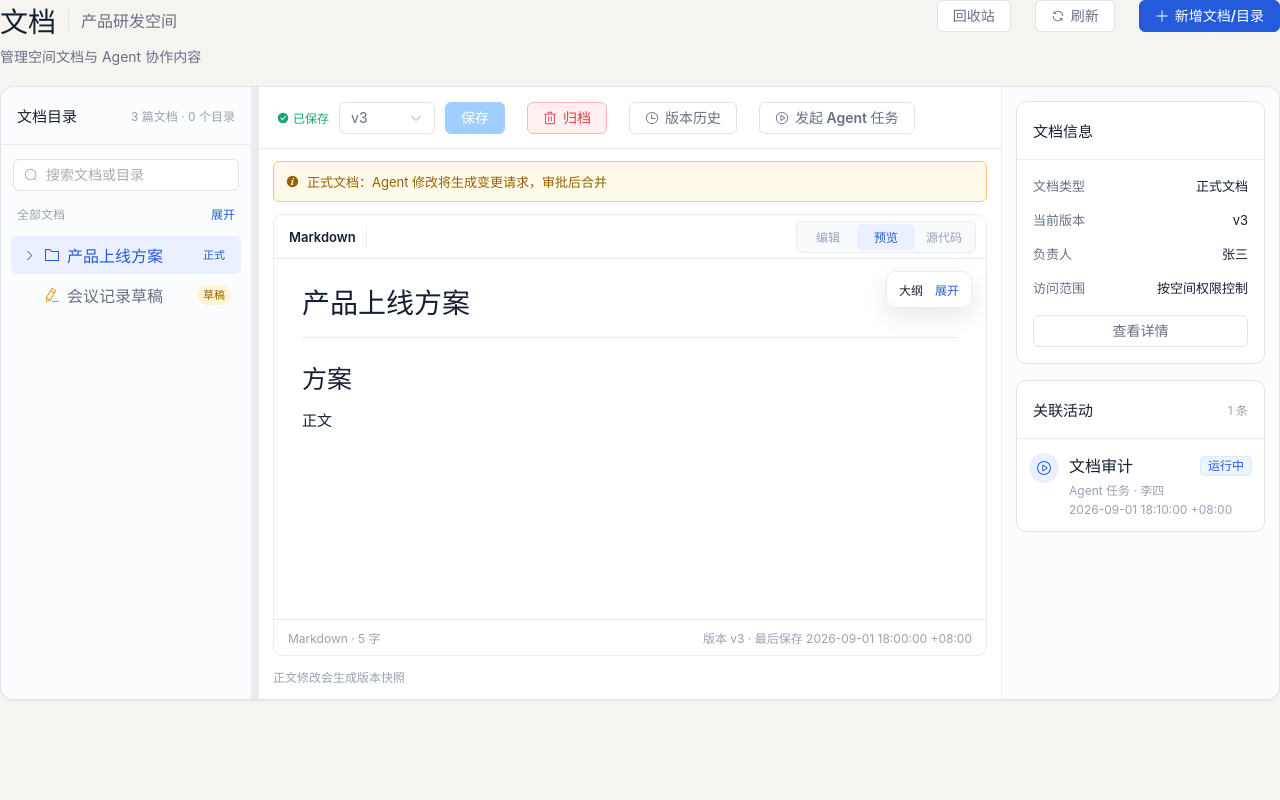
Scenario: DocumentEditorView › opens document details in an inline dialog
The width and height of the screenshot is (1280, 800).
Click the button with class "document-info-card__button". click: click(1140, 331)
box: [1033,315,1248,347]
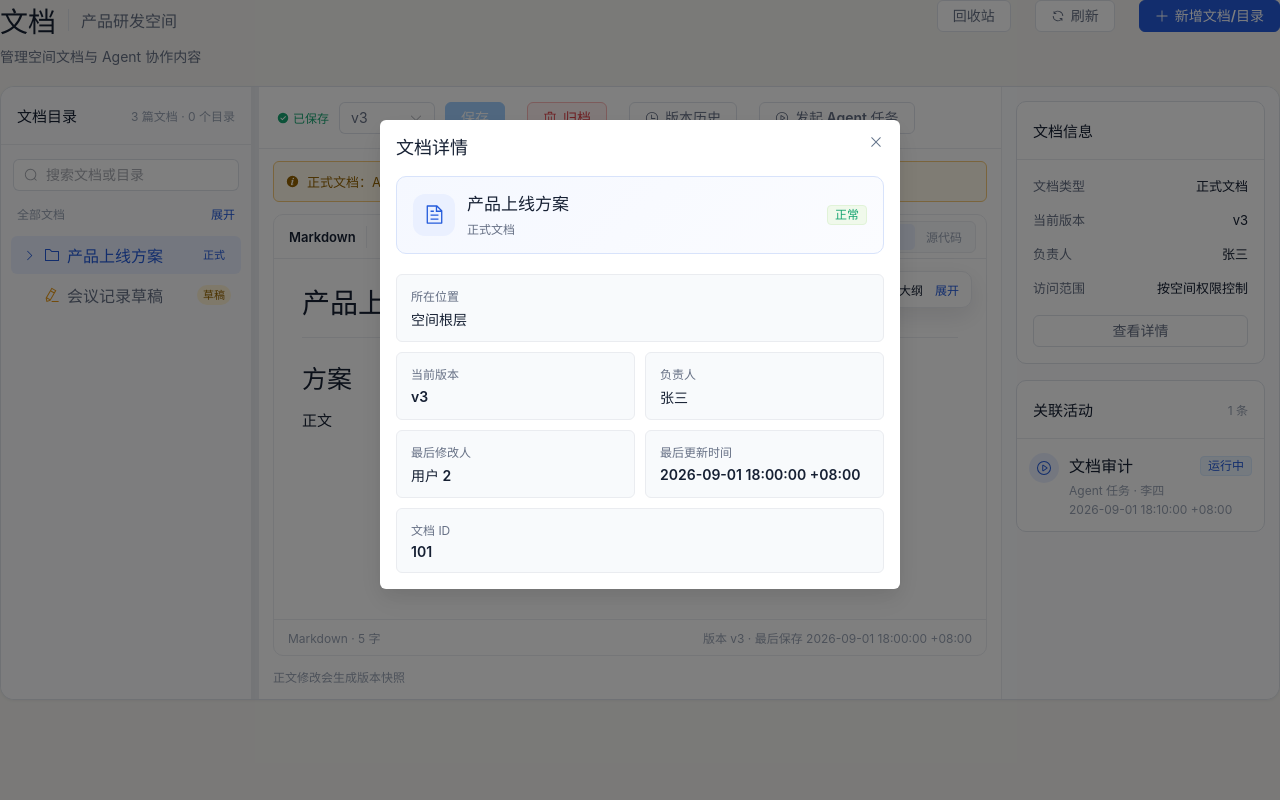
Expected: the element with class "document-detail" shows "产品上线方案", [467,194,569,214]
Expected: the element with class "document-detail" shows "最后修改人", [411,445,471,460]
Expected: the element with class "document-detail" shows "张三", [660,389,688,406]
